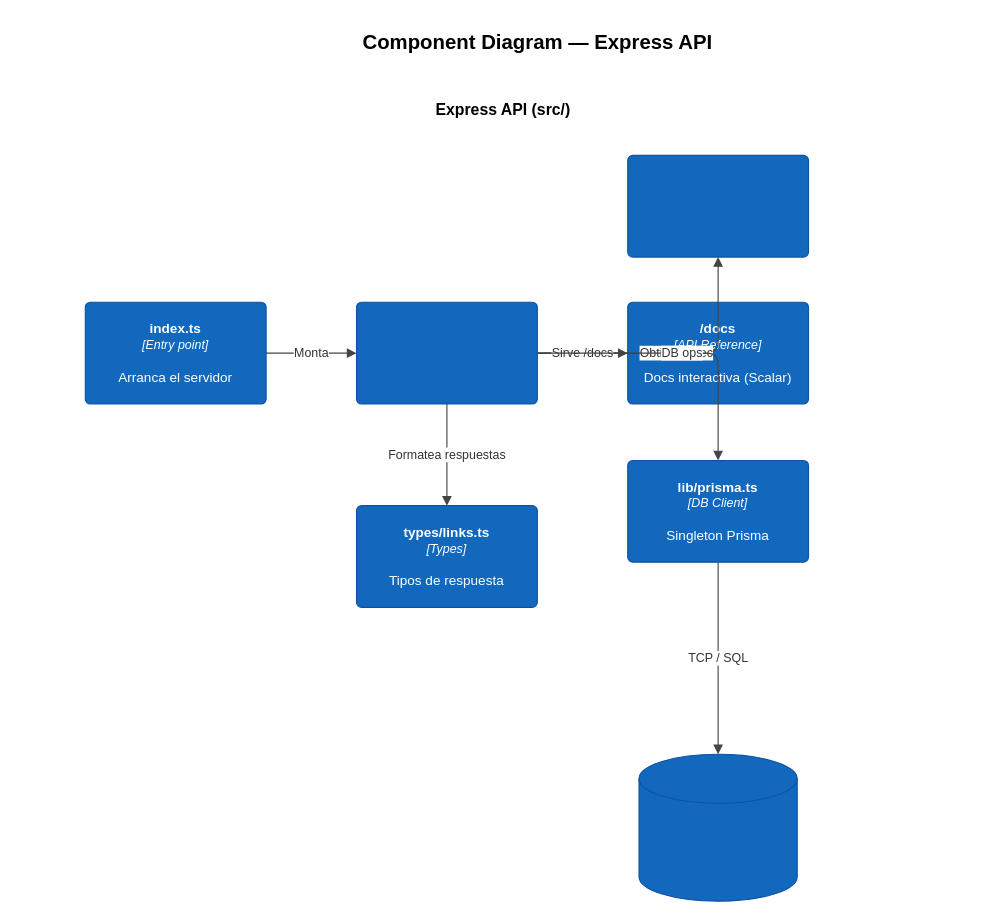
Some shapes in this 1006 by 921 pixel diagram are drawn without their labels. Each missing label, with the centre of its shape:
"app.ts [Router / Controller] Define rutas HTTP" belongs at point 446,352.
"openapi.ts [OpenAPI Spec] Spec OpenAPI 3.0" belongs at point 718,205.
"PostgreSQL 15 [Base de datos] links, access_logs" belongs at point 717,827.
